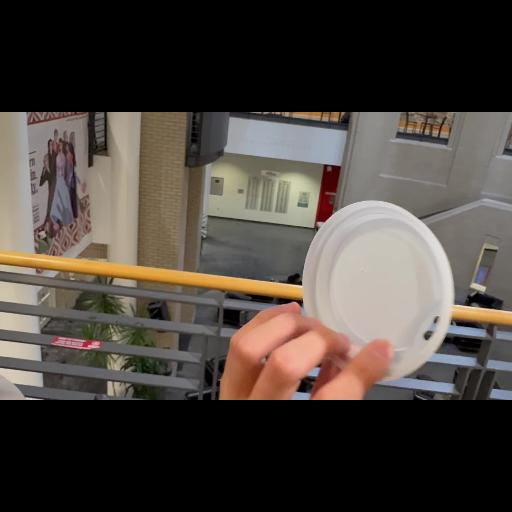lp_cup_lids: (301, 198, 455, 388)
